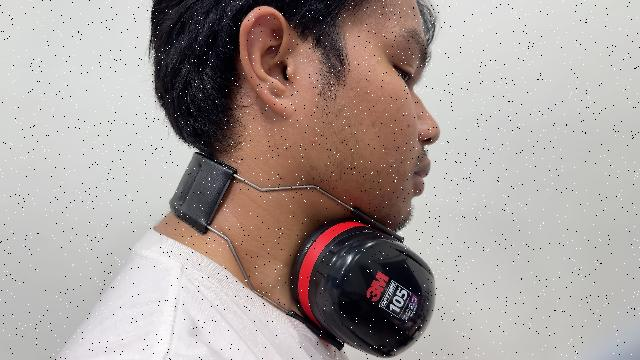headphones: (170, 153, 434, 356)
right_ear: (238, 7, 299, 121)
